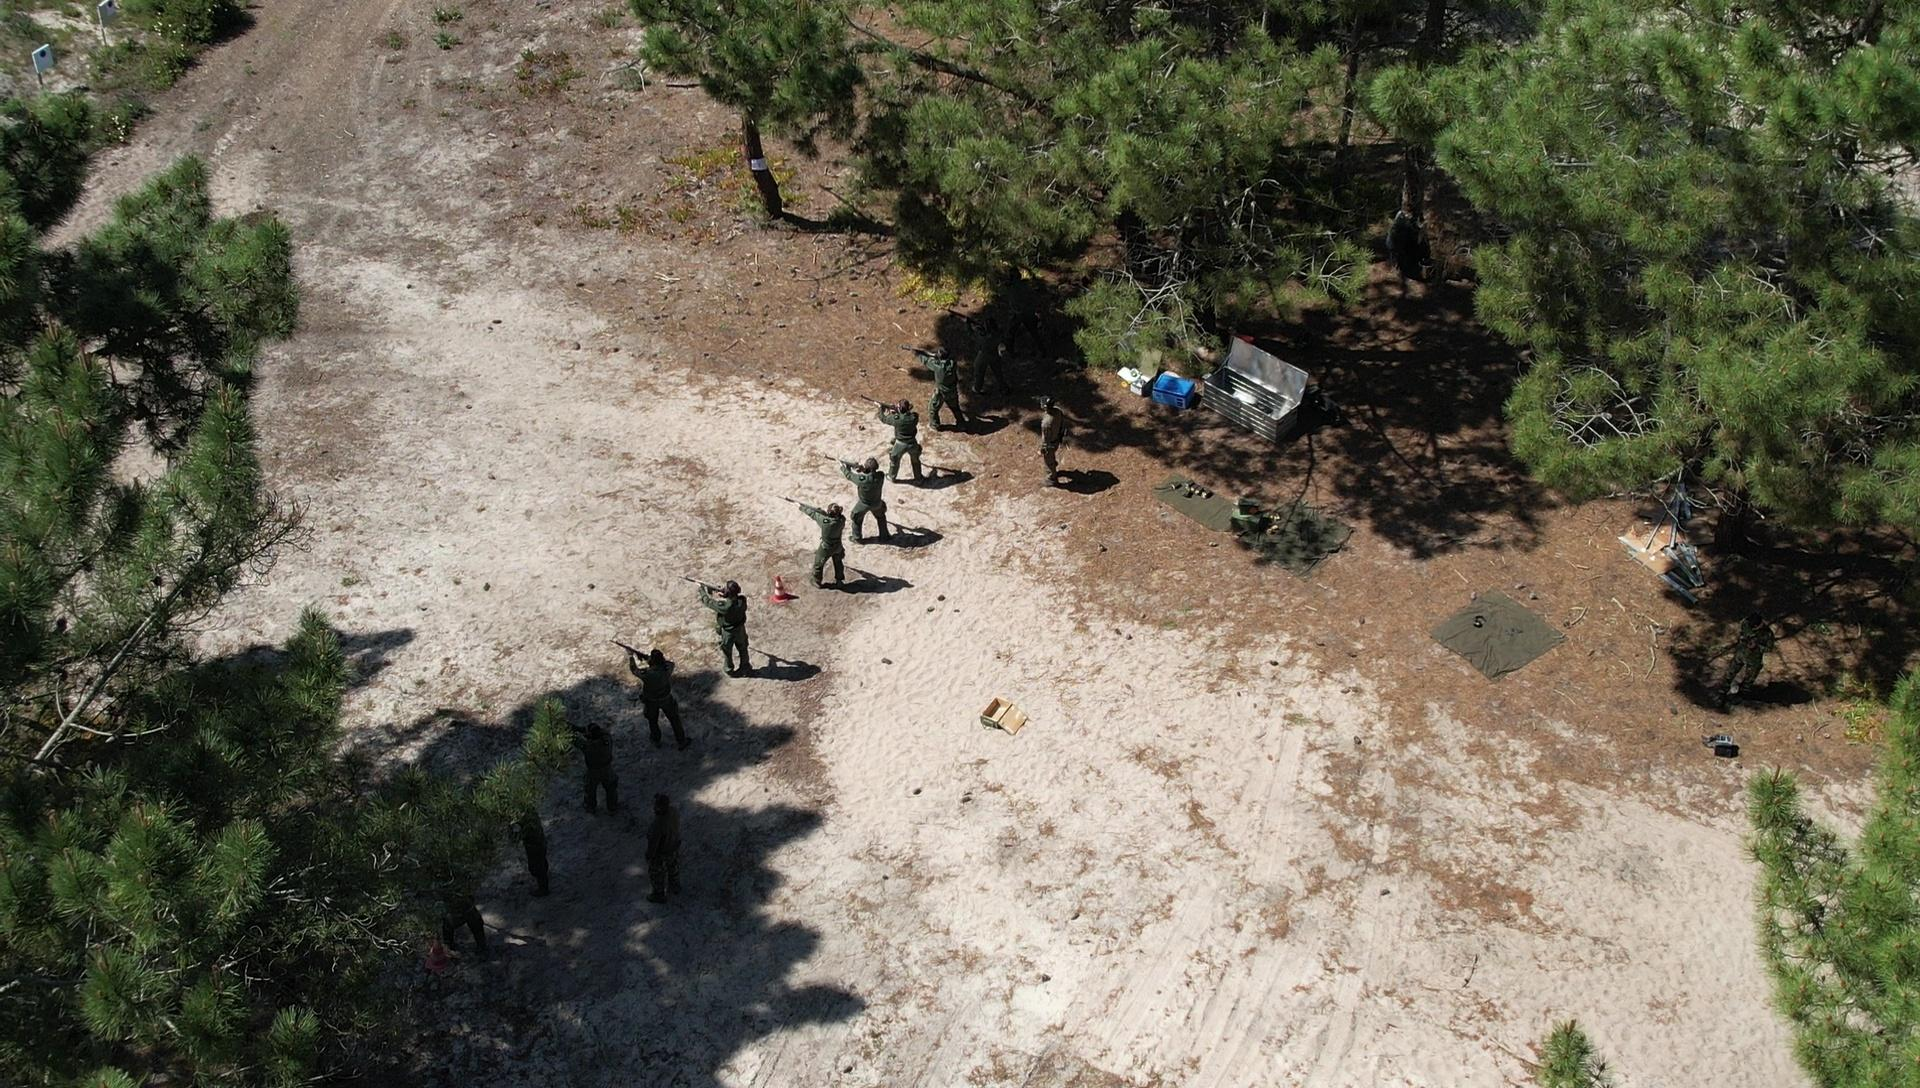Soldier: (632, 593, 709, 754), (570, 677, 632, 835), (630, 793, 704, 924), (800, 495, 866, 605), (1704, 611, 1774, 711), (843, 450, 899, 550), (866, 400, 930, 489), (702, 582, 761, 677), (915, 338, 978, 426), (1030, 386, 1083, 484)
